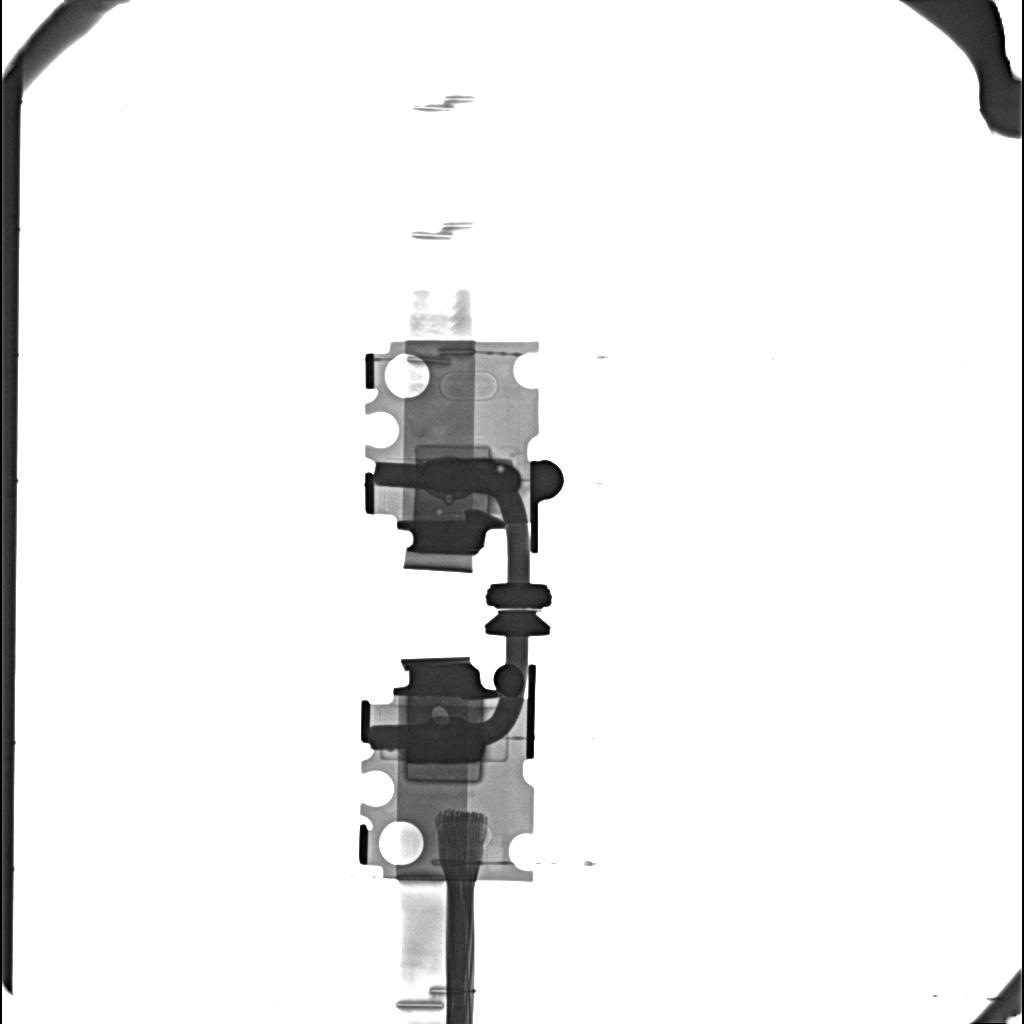defect: (421, 459, 521, 495), (407, 726, 485, 763), (405, 762, 481, 783), (414, 446, 490, 457), (432, 705, 449, 718), (436, 509, 442, 515)
